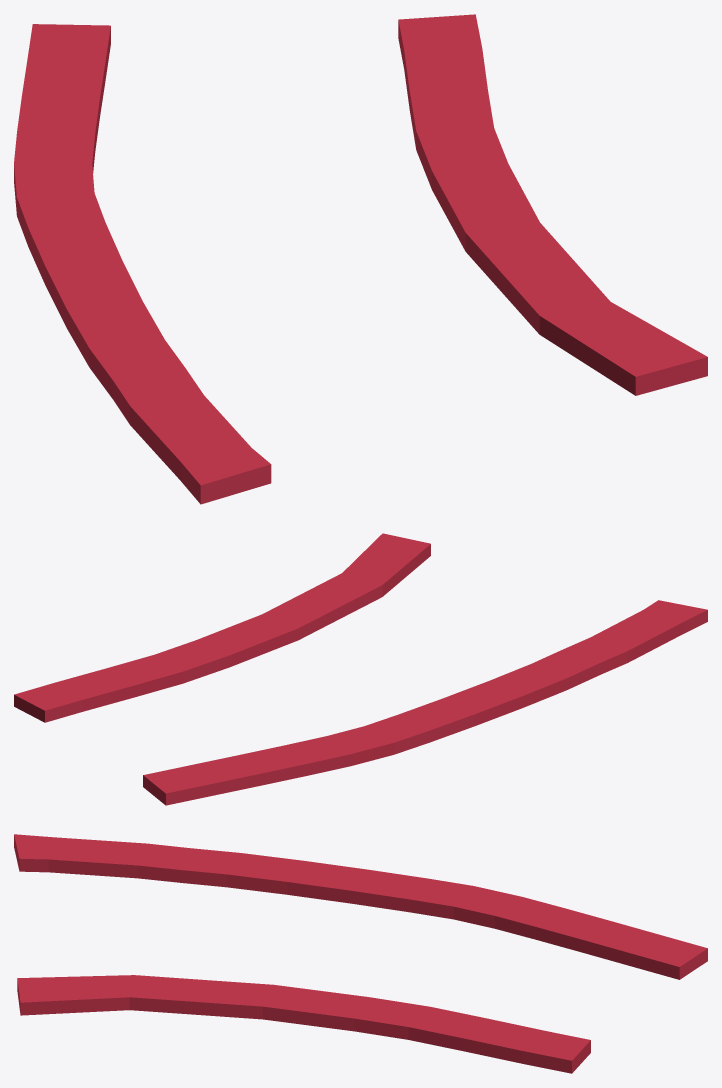
File: Cyclingroads_North.obj
3 views of the same model, one above another, from view 1: azimuth 30°, elevation 25°; view 2: azimuth 150°, elevation 25°; view 3: azimuth 270°, elevation 25° (orthographic). The views are drawn at different scales.
Visible parts, largest first — view 1: CyclingRoads_North_BezierCircle.005; view 2: CyclingRoads_North_BezierCircle.005; view 3: CyclingRoads_North_BezierCircle.005.
Part boxes in pixels (box(x1,y1,x2,y2)): CyclingRoads_North_BezierCircle.005: box(14, 14, 707, 504); CyclingRoads_North_BezierCircle.005: box(14, 533, 707, 805); CyclingRoads_North_BezierCircle.005: box(14, 834, 707, 1073).
Size of the model in its own units: 39.23 by 1.04 by 50.78.
